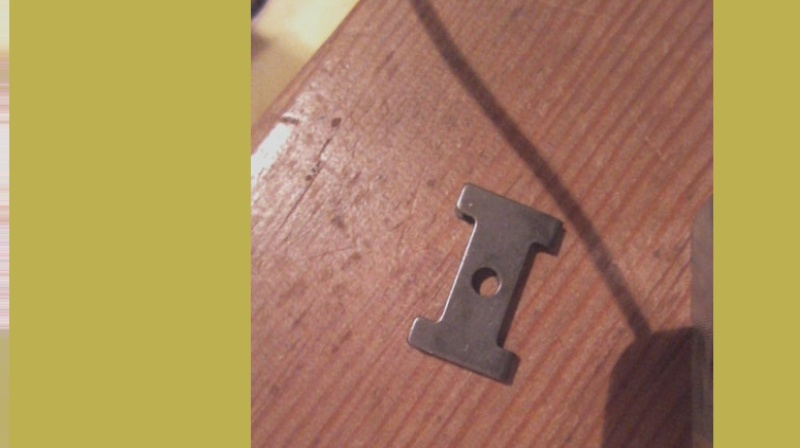O002: (404, 177, 568, 386)
